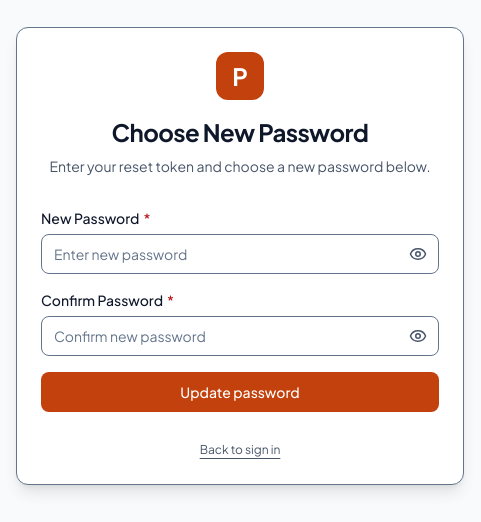
ResetPasswordPage Component Flow › rejects passwords that do not match client-side
Type "Secret123!Pass" into the password field with placeholder "Enter new password".
click(240, 254); type("Secret123!Pass")  # box top-left (41, 234), bottom-right (439, 274)
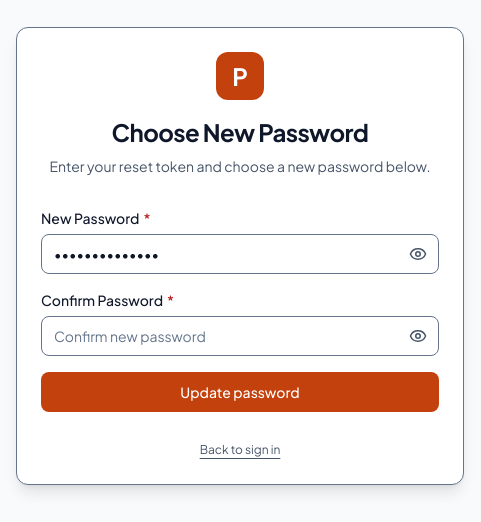
Type "Different123!Pass" into the password field with placeholder "Confirm new password".
click(240, 336); type("Different123!Pass")  # box top-left (41, 316), bottom-right (439, 356)
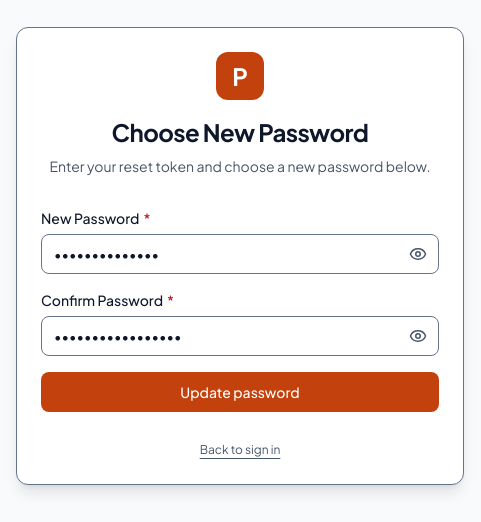
Click the button "Update password".
click(240, 392)  # box top-left (41, 372), bottom-right (439, 412)
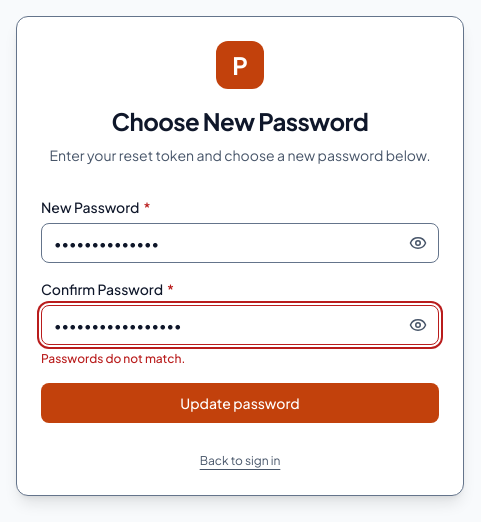
Expected: the text "Passwords do not match." is shown, top-left (41, 351), bottom-right (185, 366)
